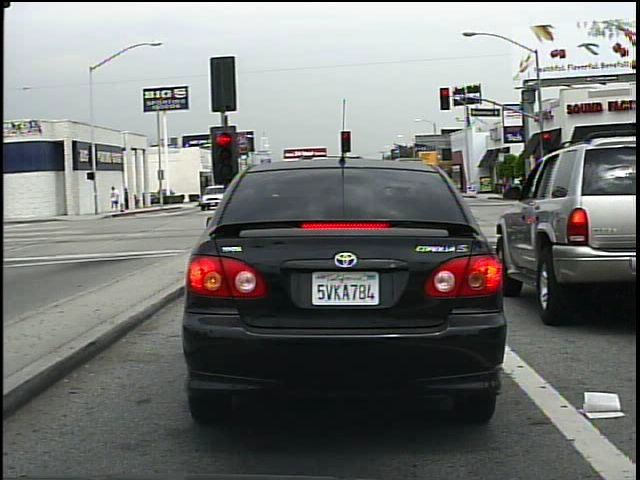person: (516, 171, 531, 203), (108, 183, 122, 213)
